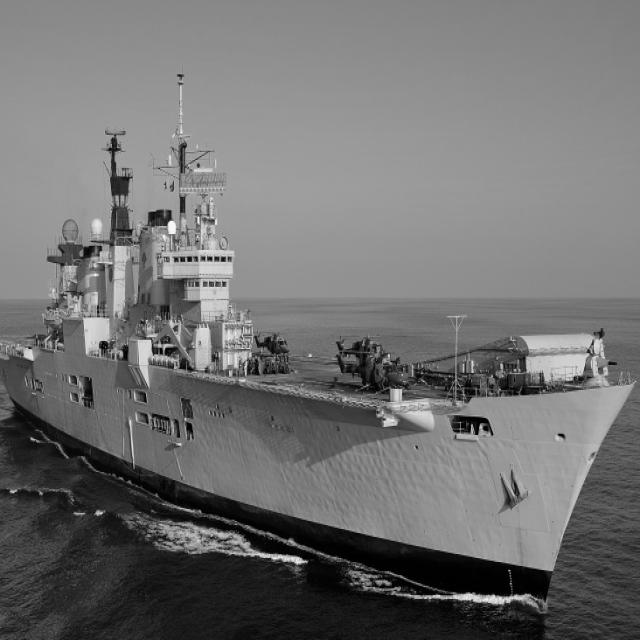Portanaves: (1, 63, 640, 633)
